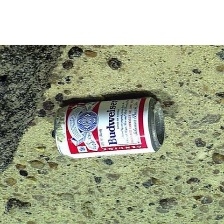can: (54, 93, 169, 157)
